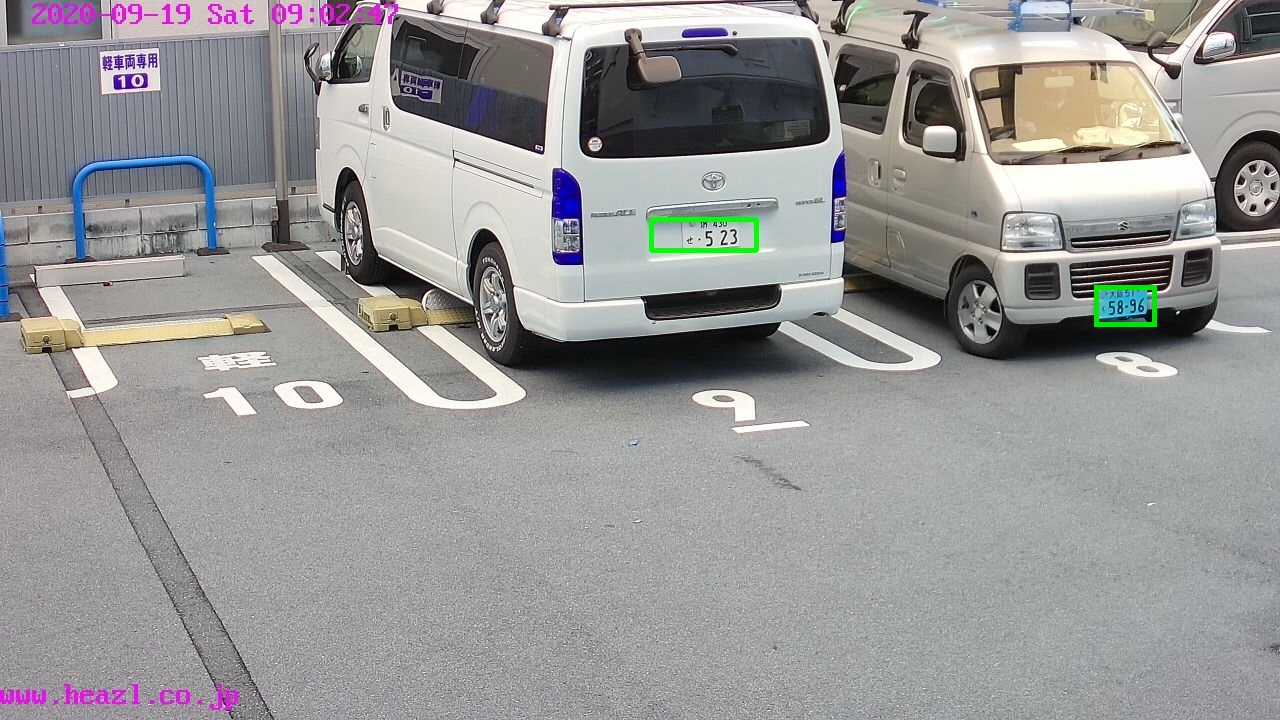number_plate: (681, 217, 749, 249), (1096, 287, 1148, 318)
